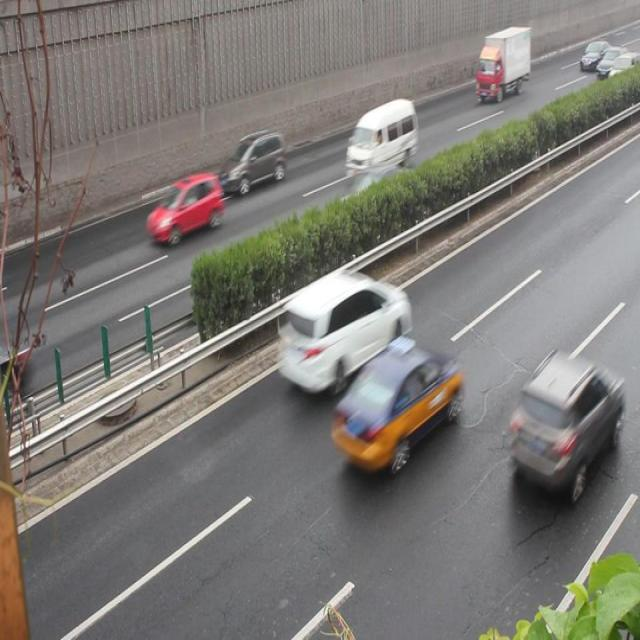bus: (475, 26, 531, 101)
car: (329, 341, 461, 472), (276, 269, 409, 394), (508, 349, 617, 495), (332, 164, 410, 238), (146, 173, 225, 242), (220, 132, 288, 194)
truck: (344, 100, 416, 182)
